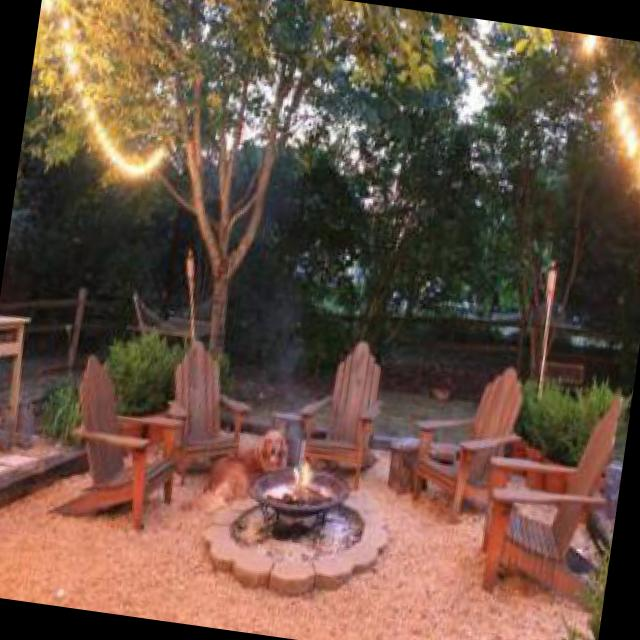fire: (276, 456, 322, 512)
smoke: (247, 284, 325, 453)
